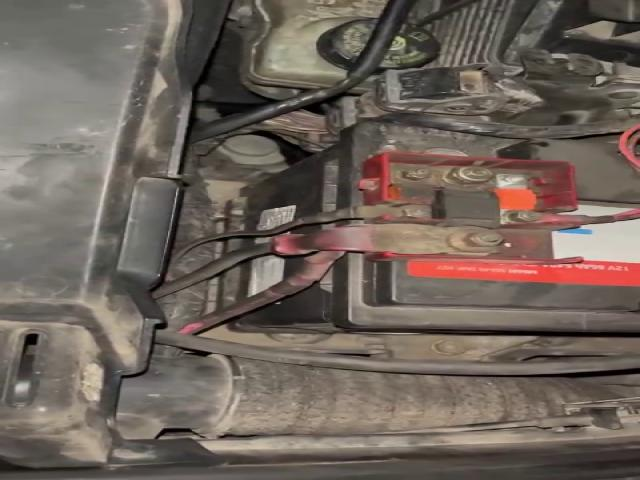accumulator: (214, 122, 634, 335)
